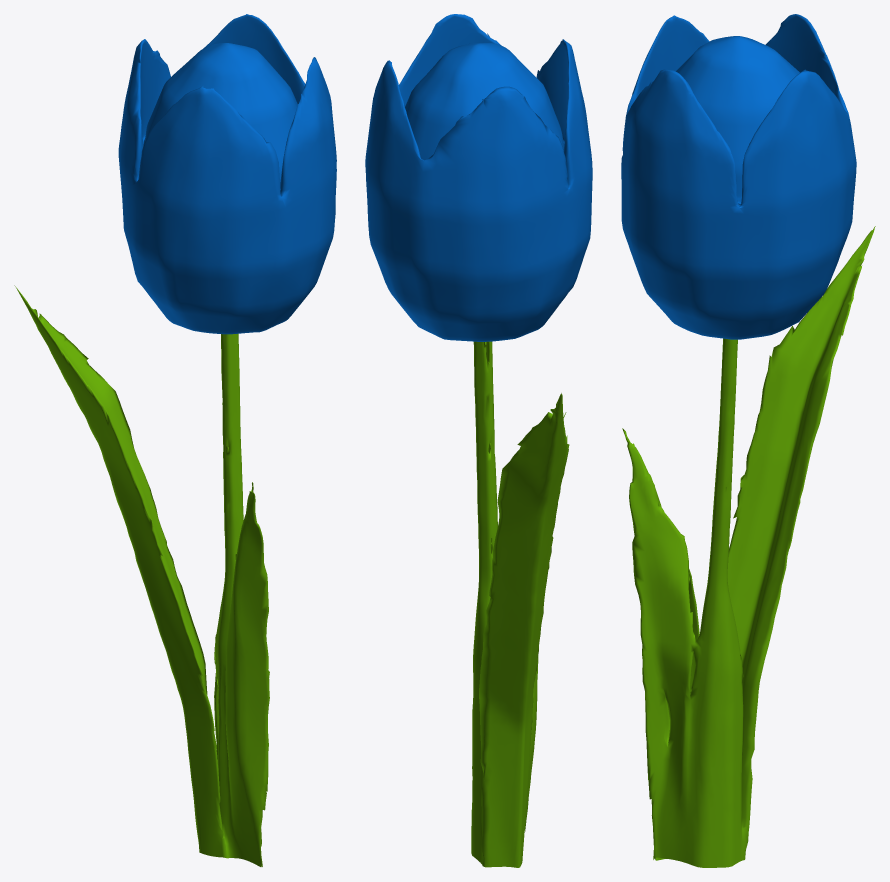
The model's file is blue3.glb.
3 views of the same model, side by side, from view 1: azimuth 30°, elevation 25°; view 2: azimuth 150°, elevation 25°; view 3: azimuth 270°, elevation 25° (orthographic). The views are drawn at different scales.
Parts seen in each view (by area): view 1: tulip_blue, tulip_leaf; view 2: tulip_blue, tulip_leaf; view 3: tulip_blue, tulip_leaf.
Part boxes in pixels (<box>): tulip_blue: <box>118,14,336,334</box>; tulip_leaf: <box>14,285,269,866</box>; tulip_blue: <box>365,14,592,341</box>; tulip_leaf: <box>471,341,569,867</box>; tulip_blue: <box>621,14,856,339</box>; tulip_leaf: <box>622,226,875,867</box>.
Bounding box in the file's own units: 0.2801 × 0.8916 × 0.2477.
